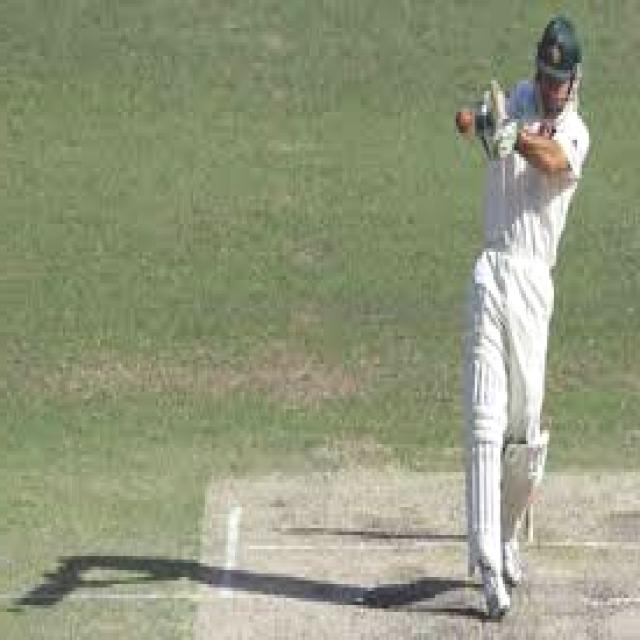toe: (488, 99, 512, 146)
